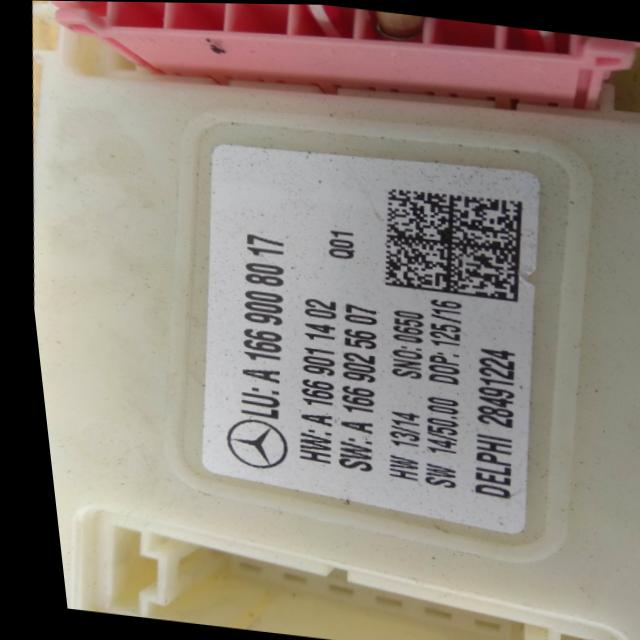datamatrix: (370, 183, 526, 301)
